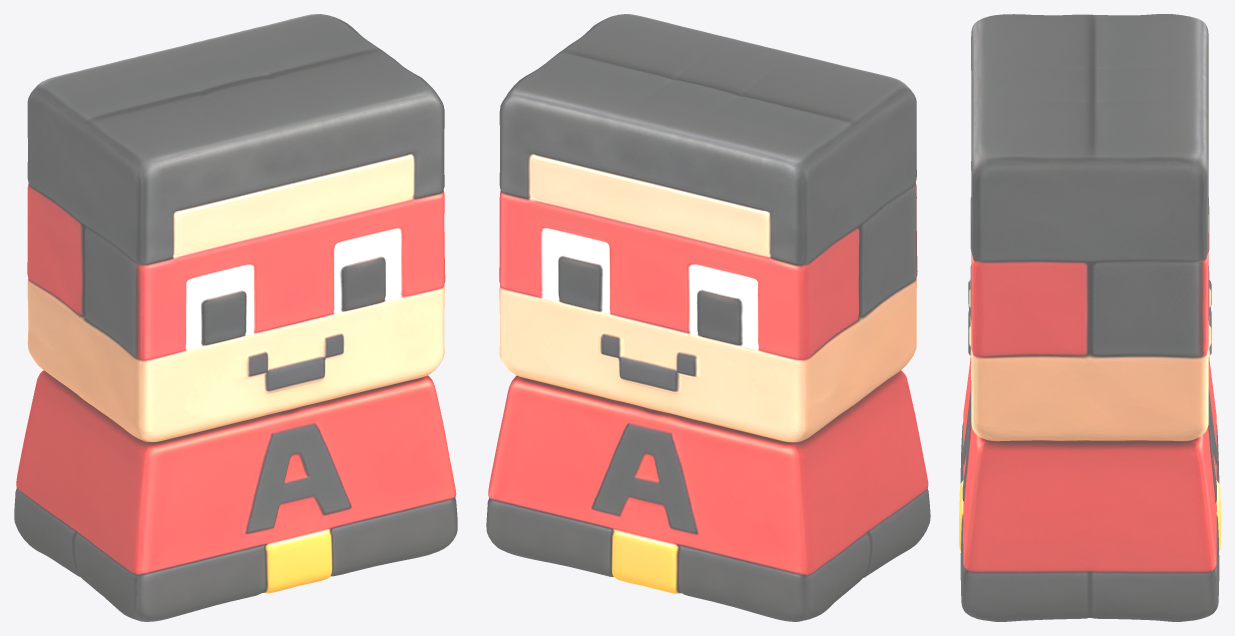
The model's file is TexturedMeshBright-mobile.glb.
3 renders of one model, left to right at view 1: azimuth 30°, elevation 25°; view 2: azimuth 150°, elevation 25°; view 3: azimuth 270°, elevation 25°, orthographic.
Visible parts, largest first — view 1: tmpsxun6ga2.ply; view 2: tmpsxun6ga2.ply; view 3: tmpsxun6ga2.ply.
Part boxes in pixels (box(x1,y1,x2,y2)): tmpsxun6ga2.ply: box(14, 14, 457, 621); tmpsxun6ga2.ply: box(486, 14, 930, 621); tmpsxun6ga2.ply: box(959, 14, 1220, 621).
Bounding box in the file's own units: 1.45 × 1.96 × 0.9996.
1 material, 1 textured.
